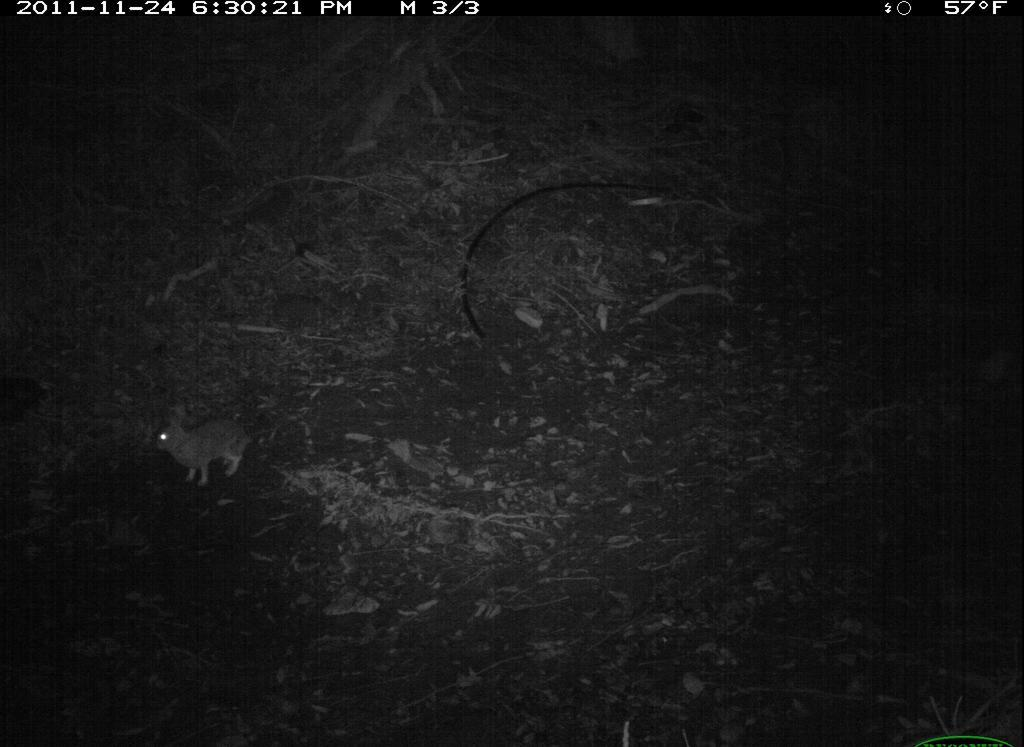rabbit: (141, 395, 254, 493)
